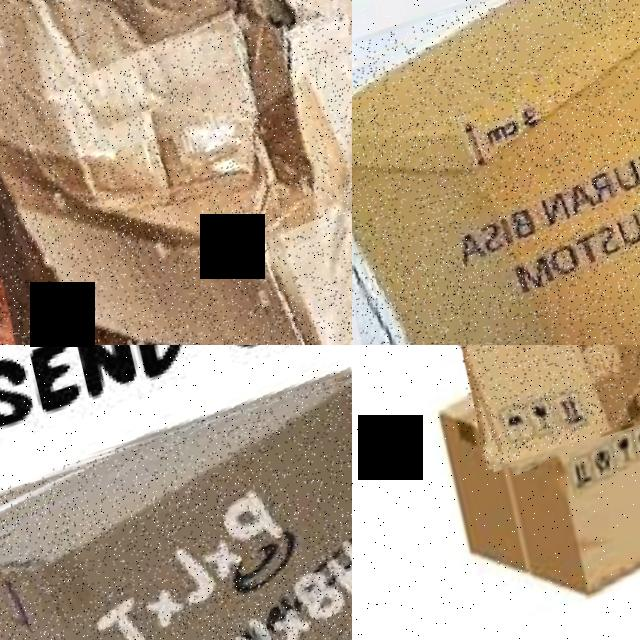Kardus kondisi bagus: (1, 1, 353, 346), (353, 1, 640, 346), (1, 387, 353, 640)
Kardus kondisi rusak: (501, 357, 640, 603), (461, 346, 640, 463)
